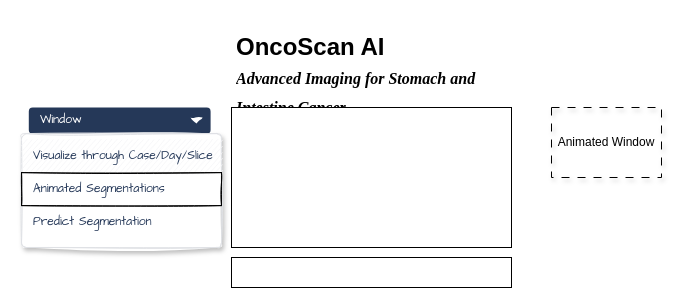
Some shapes in this 685 by 305 pixel diagram are drawn without their labels. Each missing label, with the centre of its shape:
"Animation Slider on Case" belongs at point 371,272.
"Figure" belongs at point 371,177.
